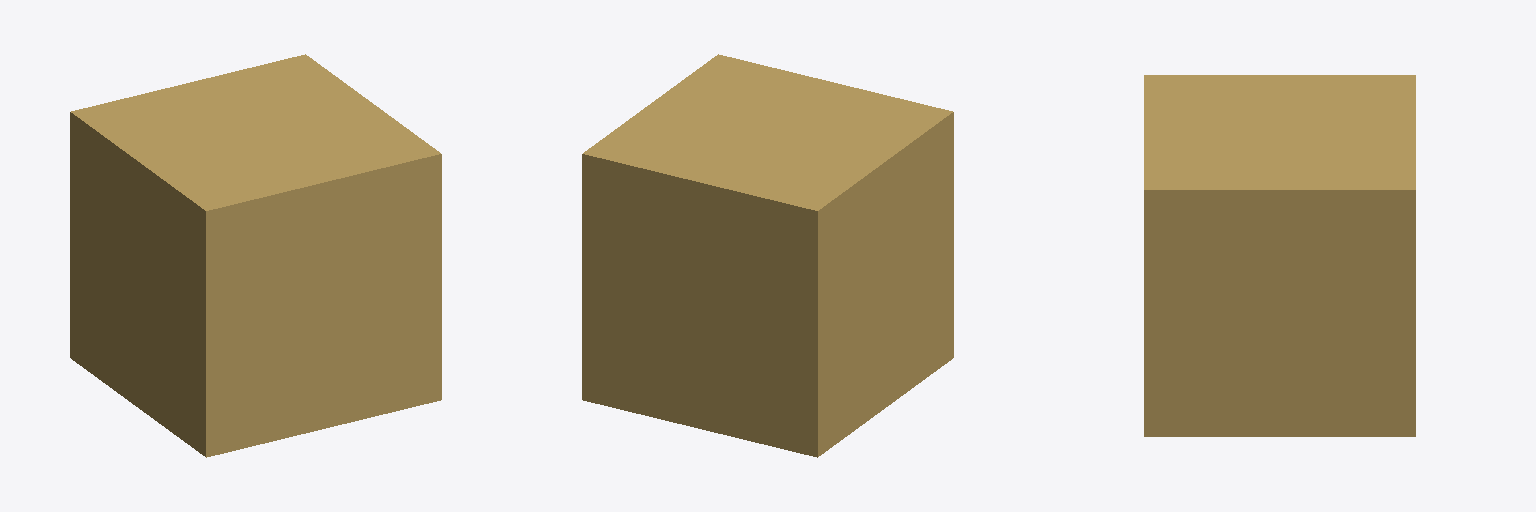
The picture shows the model from 3 angles: view 1: azimuth 30°, elevation 25°; view 2: azimuth 150°, elevation 25°; view 3: azimuth 270°, elevation 25°; orthographic projection.
Visible parts, largest first — view 1: pCube1 group1; view 2: pCube1 group1; view 3: pCube1 group1.
Part boxes in pixels (x1,y1,x2,y2): pCube1 group1: (70,54,441,457); pCube1 group1: (582,54,953,457); pCube1 group1: (1144,75,1415,436).
Size of the model in its own units: 1 by 1 by 1.
Materials: 1 (1 with a texture image).